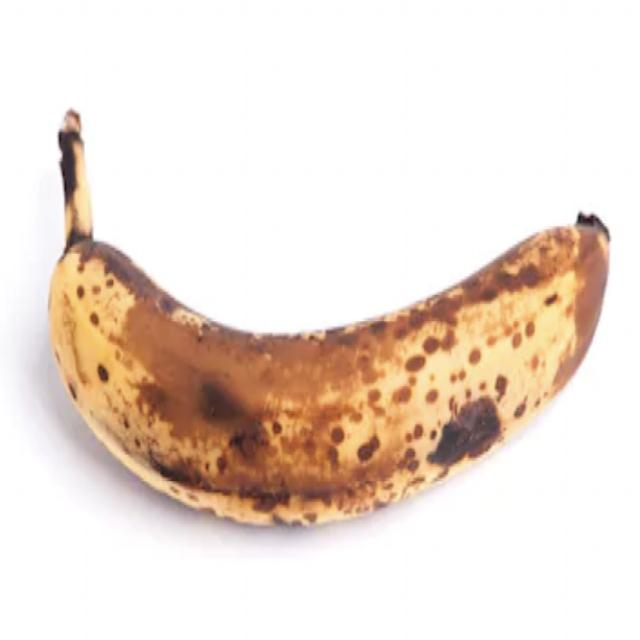rotten-banana: (31, 122, 614, 534)
